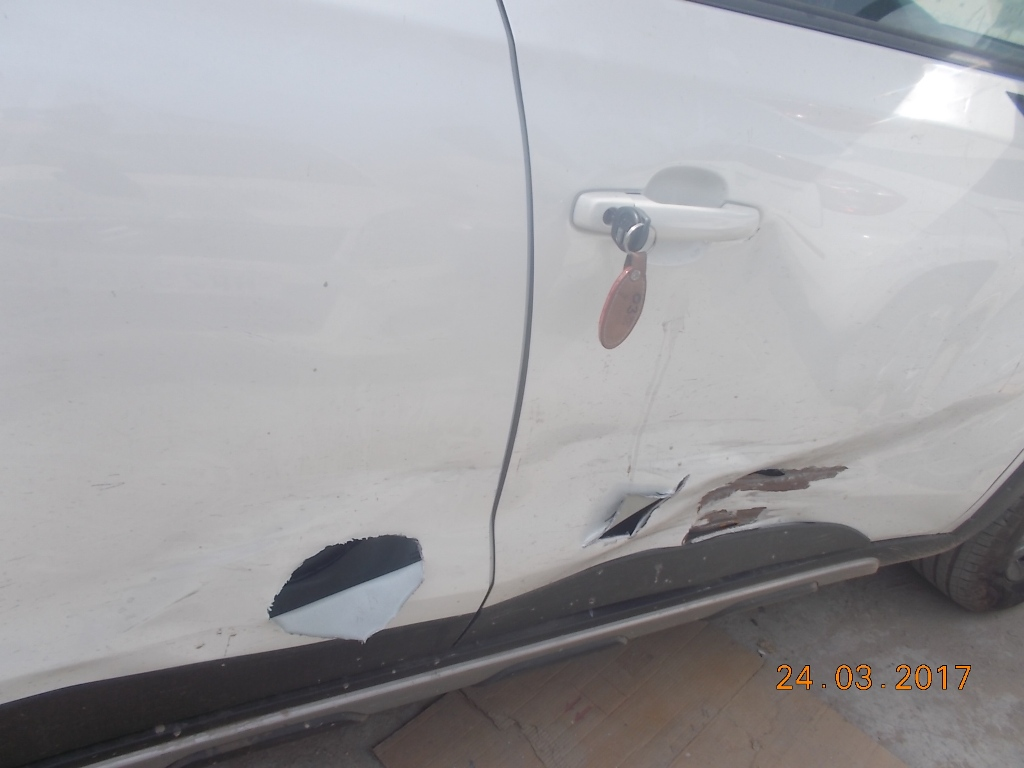Tear: (262, 517, 441, 639), (699, 454, 850, 565), (593, 475, 678, 570)
